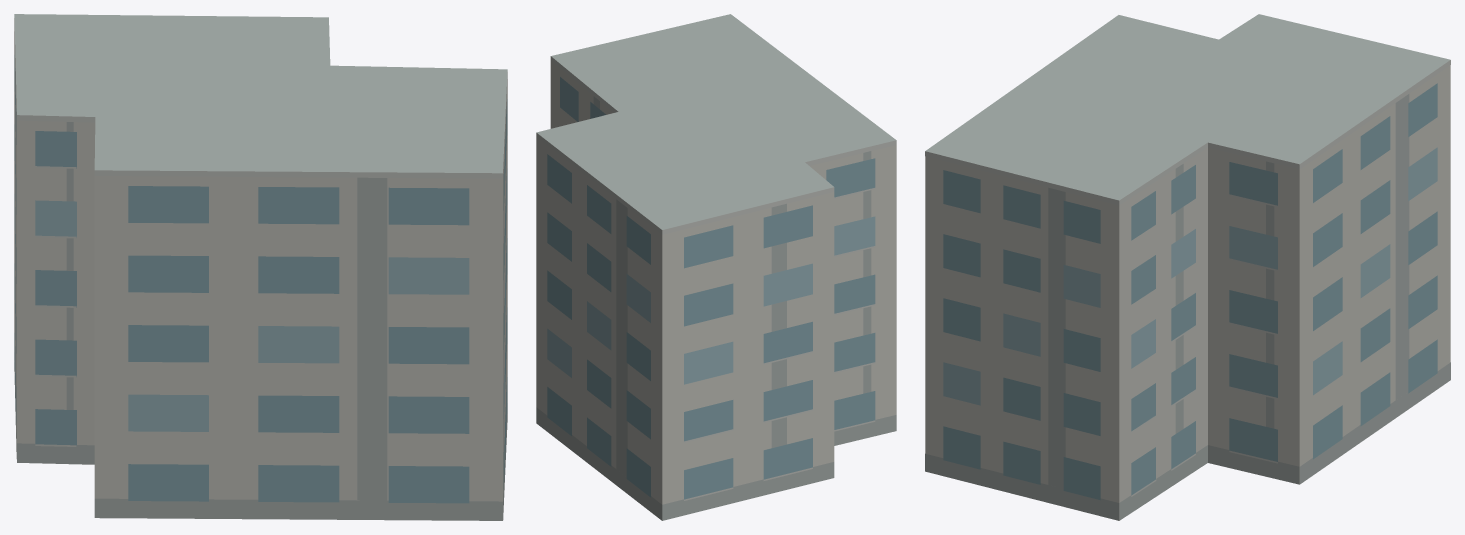
The model's file is survey-upis-32783292.glb.
3 views of the same model, side by side, from view 1: azimuth 30°, elevation 25°; view 2: azimuth 150°, elevation 25°; view 3: azimuth 270°, elevation 25° (orthographic). The views are drawn at different scales.
Parts seen in each view (by area): view 1: survey-upis-32783292.tmp; view 2: survey-upis-32783292.tmp; view 3: survey-upis-32783292.tmp.
Boxes of the visible parts, x1,y1,x2,y2 form: survey-upis-32783292.tmp: [14, 14, 507, 520]; survey-upis-32783292.tmp: [536, 14, 896, 520]; survey-upis-32783292.tmp: [925, 14, 1450, 520].
Size of the model in its own units: 19.05 by 15.25 by 22.69.
